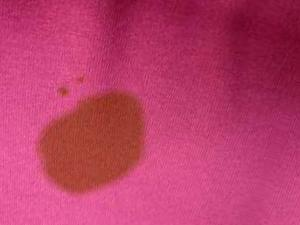stain: (32, 89, 148, 199), (53, 87, 72, 99), (74, 74, 86, 87)
